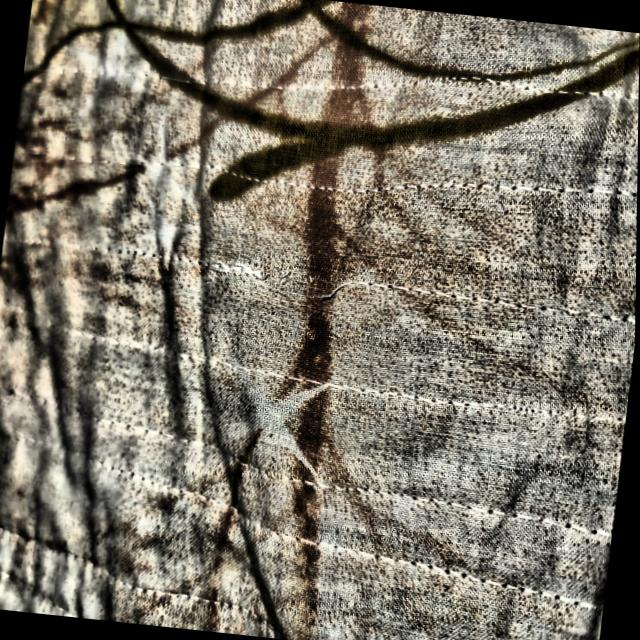Stitch: (219, 228, 376, 330)
